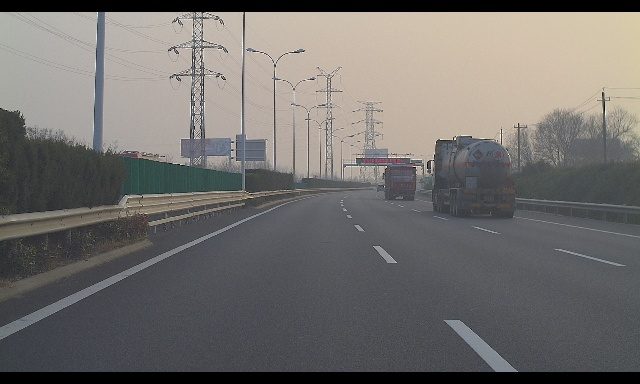car: (377, 184, 385, 192)
truck: (427, 135, 517, 218), (382, 164, 416, 200)
